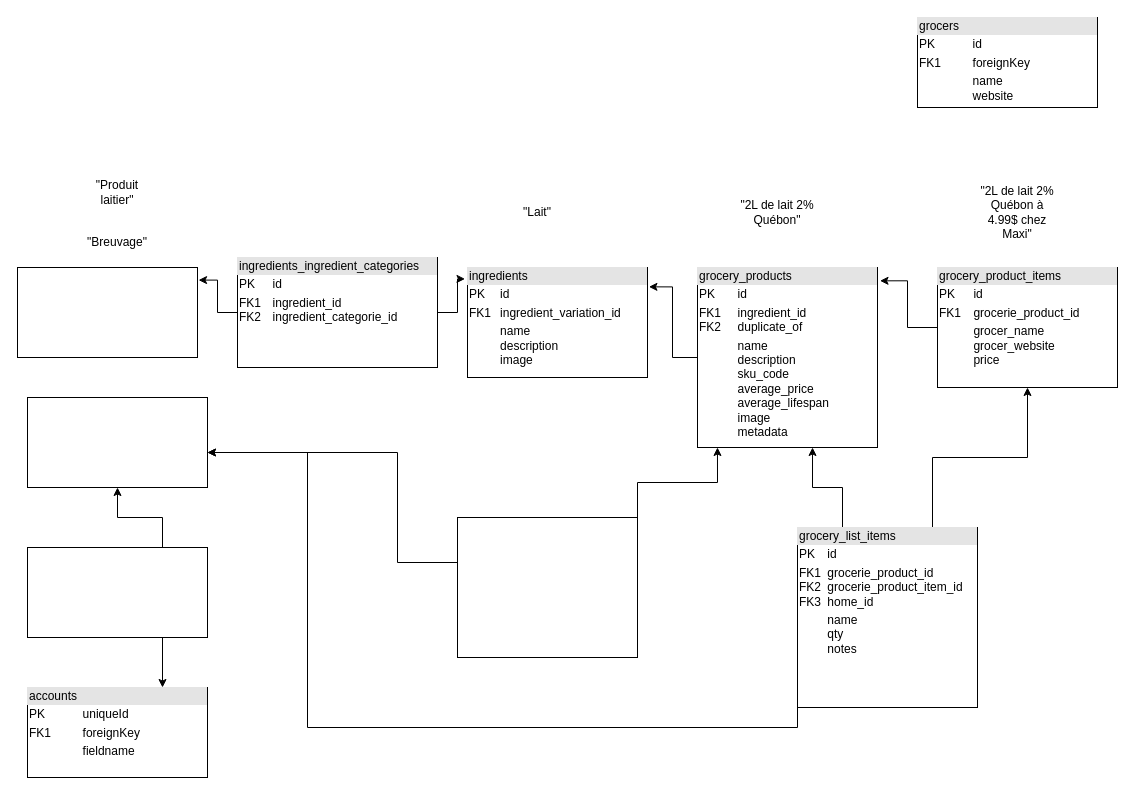
This 1135x795 diagram has some shape labels left out. The shapes that lost their labels are listed below. From the top down, each one's centre as x and y in pixels, then its label:
(107,312): ingredient_categories PK id FK1 foreignKey name
(117,442): homes PK id FK1 owner_account_id address name
(117,592): homes_accounts PK id FK1 FK2 account_id home_id is_admin
(547,587): pantry_items PK id FK1 FK2 grocerie_product_id home_id qty is_low
